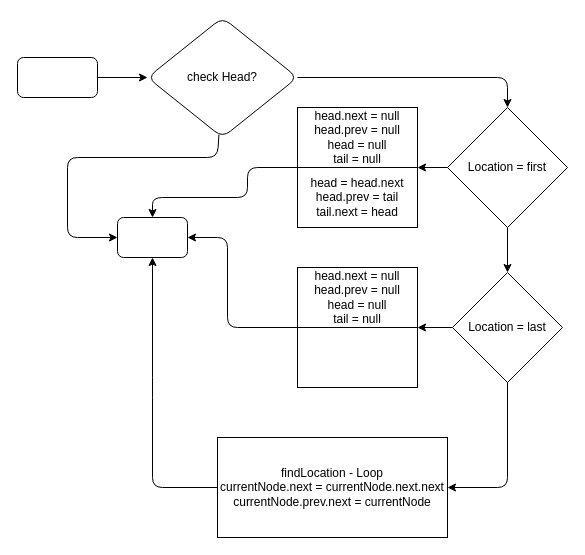
Some shapes in this 585 by 555 pixel diagram are drawn without their labels. The centre of each missing label's shape, as x and y in pixels:
"Location" belongs at (57,77).
"tail = tail.prev tail.next = head head.prev = tail" belongs at (357,357).
"Terminate" belongs at (152,237).
